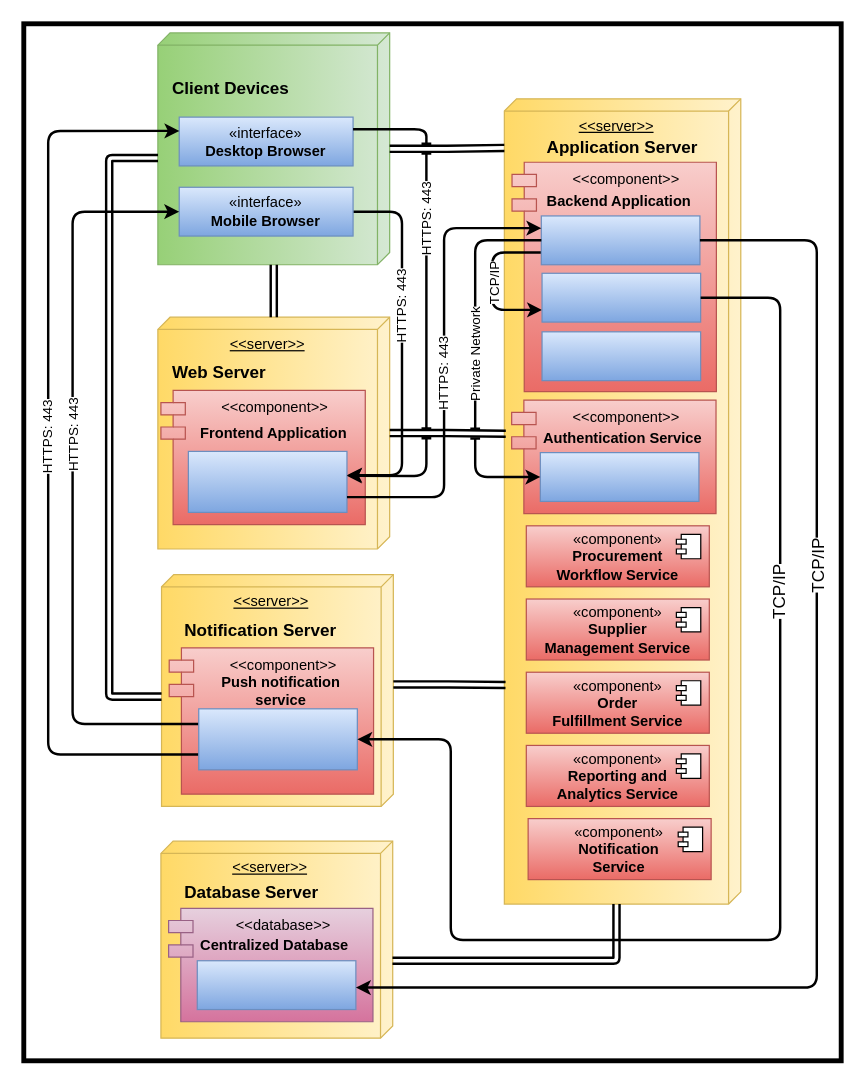
This 864x1083 diagram has some shape labels left out. The box of each missing label's shape, as (x1, y1, x2, y2) in pixels:
<<device/environment>>: (157, 32, 390, 265)
«interface» Auth API: (539, 451, 699, 501)
«interface» Backend API: (540, 215, 700, 265)
«interface» Database Access: (541, 331, 701, 381)
«interface» Frontend API: (187, 450, 347, 512)
«interface» Notification API: (541, 272, 701, 322)
«interface» Notification Delivery API: (198, 708, 357, 770)
«interface» SQL Interface: (196, 960, 356, 1010)
